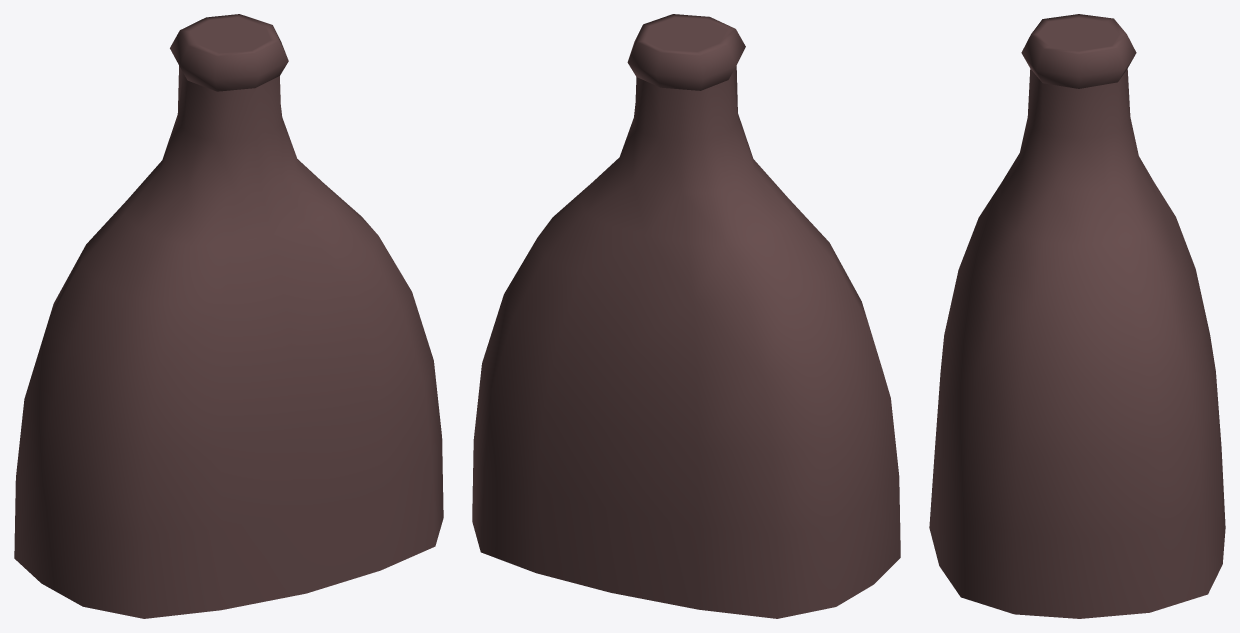
File: flaske4_rosa.fbx
3 views of the same model, side by side, from view 1: azimuth 30°, elevation 25°; view 2: azimuth 150°, elevation 25°; view 3: azimuth 270°, elevation 25° (orthographic).
Visible parts, largest first — view 1: pCube14; view 2: pCube14; view 3: pCube14.
Part boxes in pixels (x1,y1,x2,y2): pCube14: [14, 14, 443, 618]; pCube14: [472, 14, 900, 618]; pCube14: [929, 14, 1225, 618].
Bounding box in the file's own units: 1.71 × 2.17 × 1.18.
